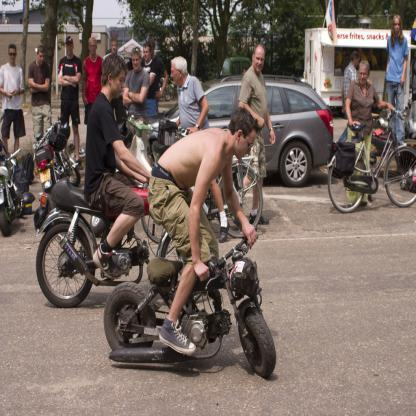car: (142, 78, 332, 187)
motorcycle: (102, 229, 272, 370), (32, 172, 150, 310), (30, 118, 82, 198), (0, 135, 21, 240)
